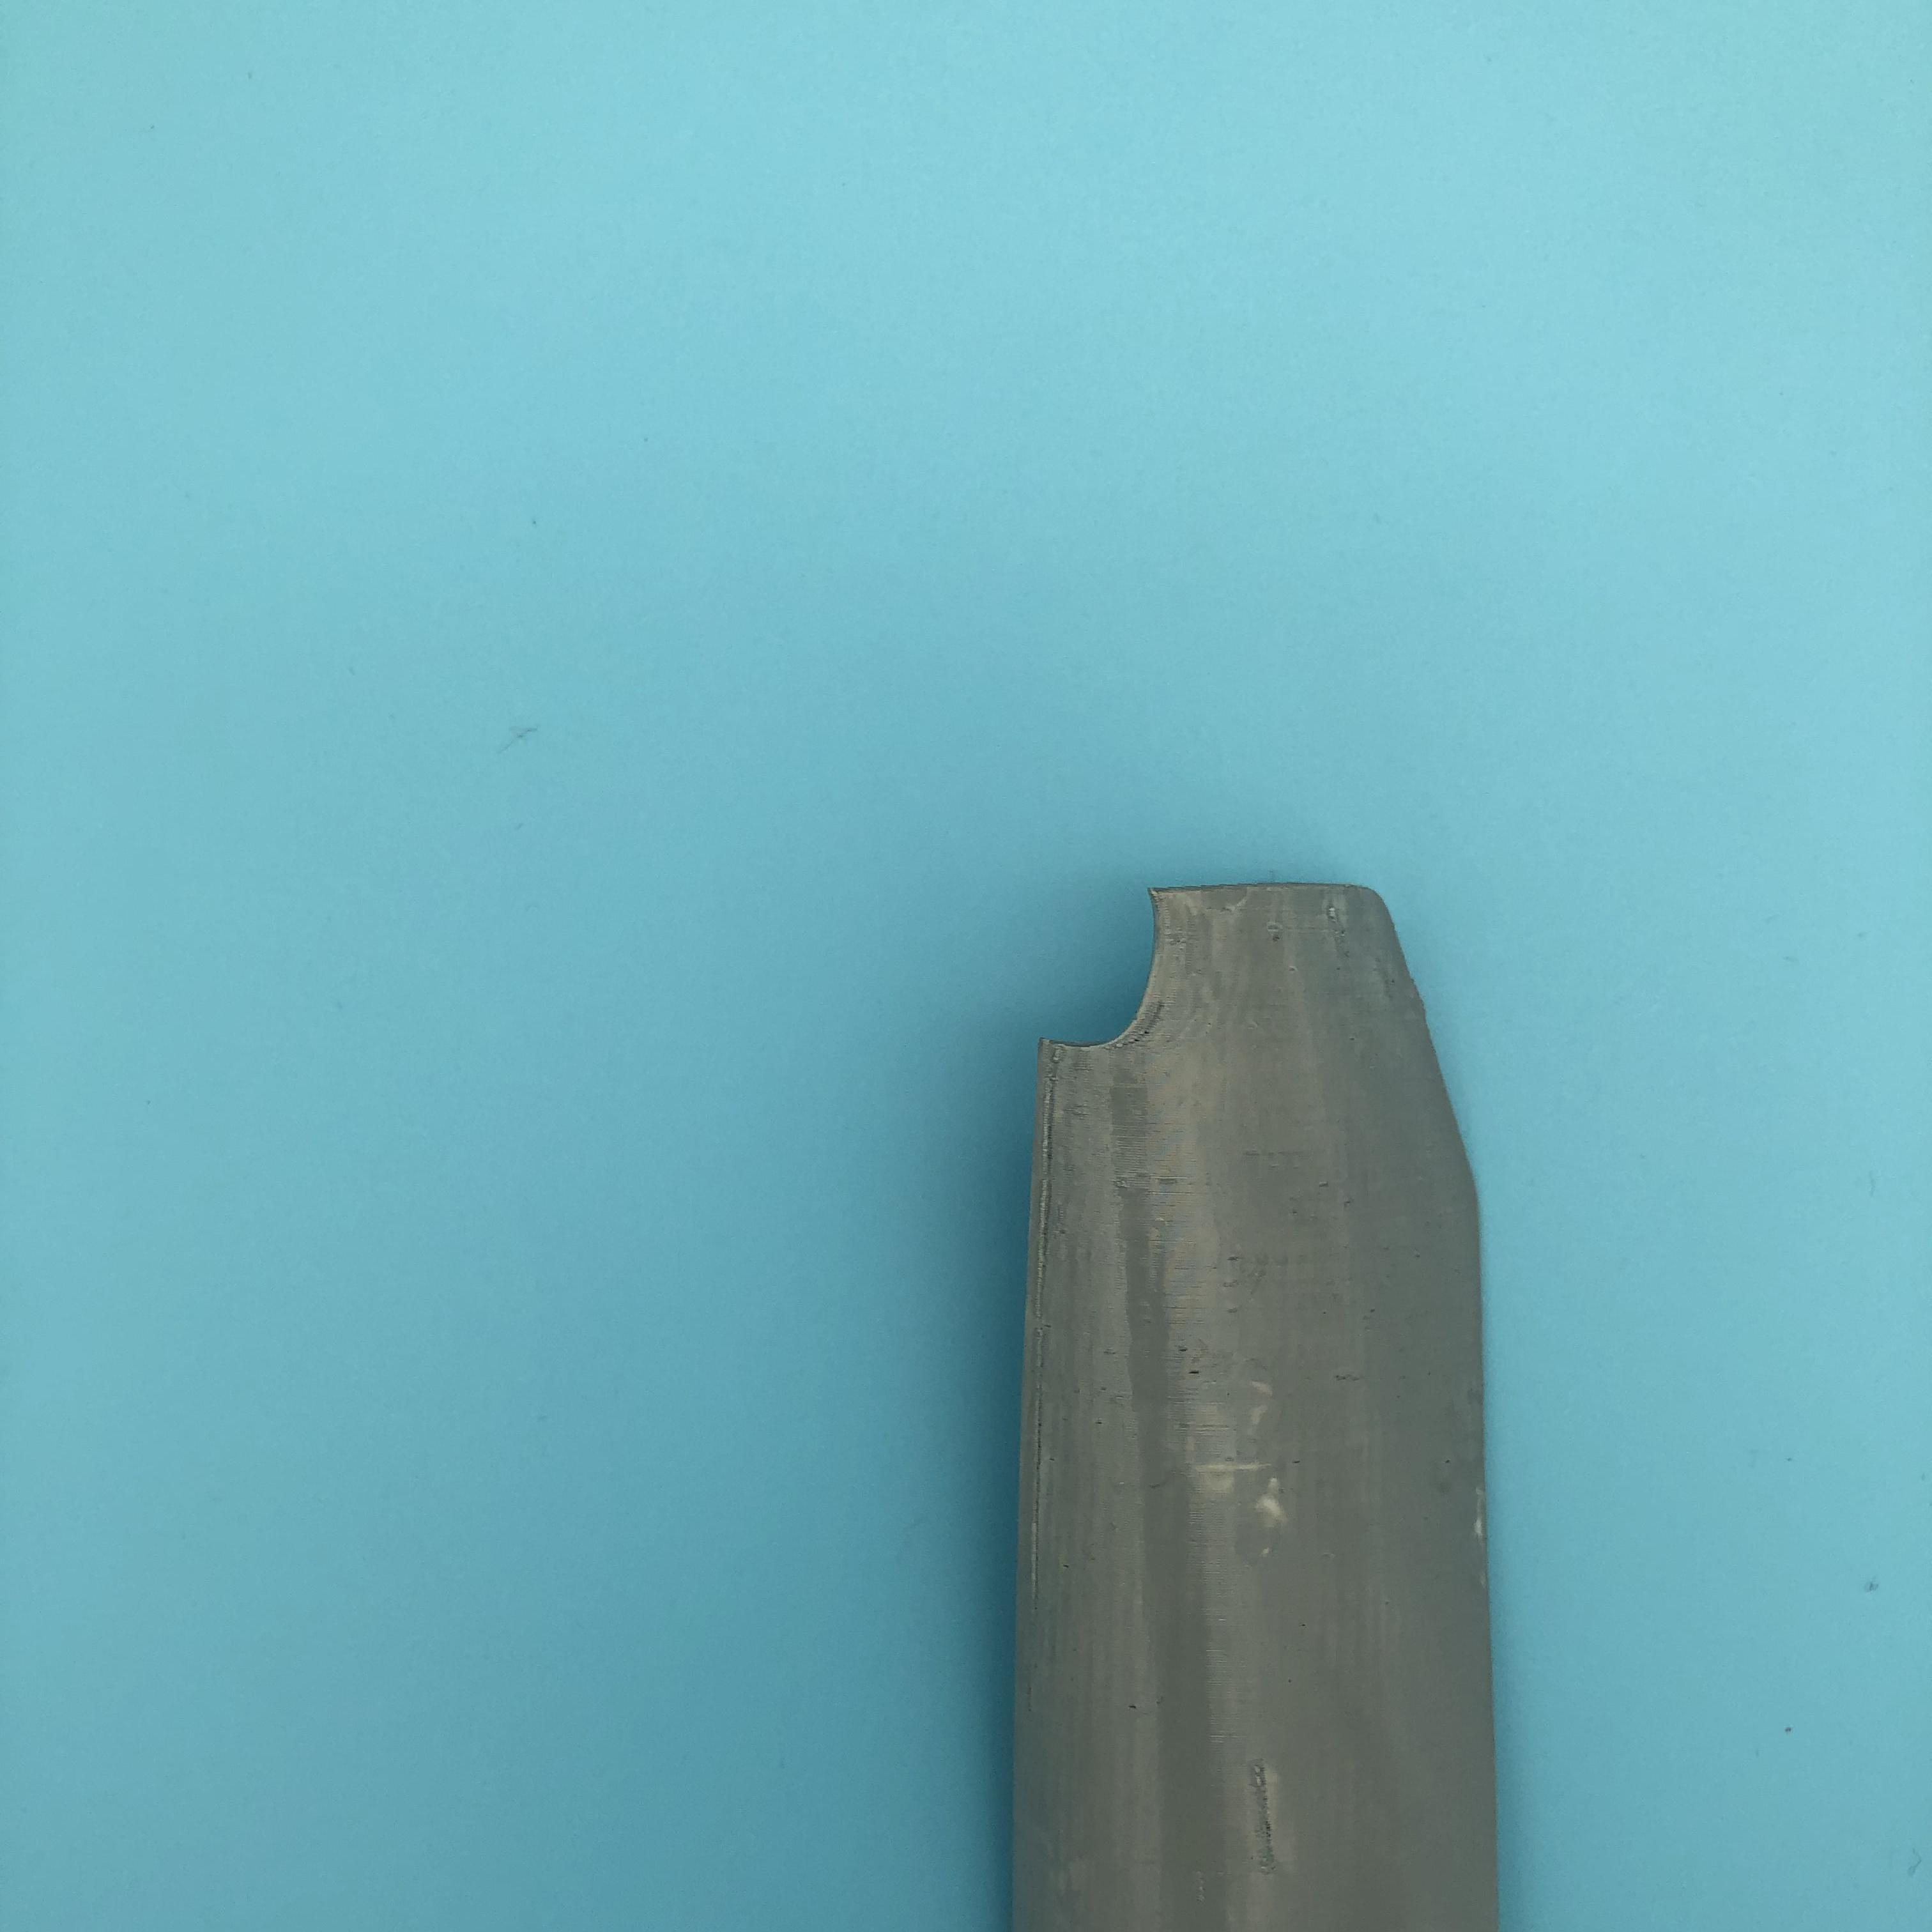fracture: (1040, 886, 1180, 1063)
